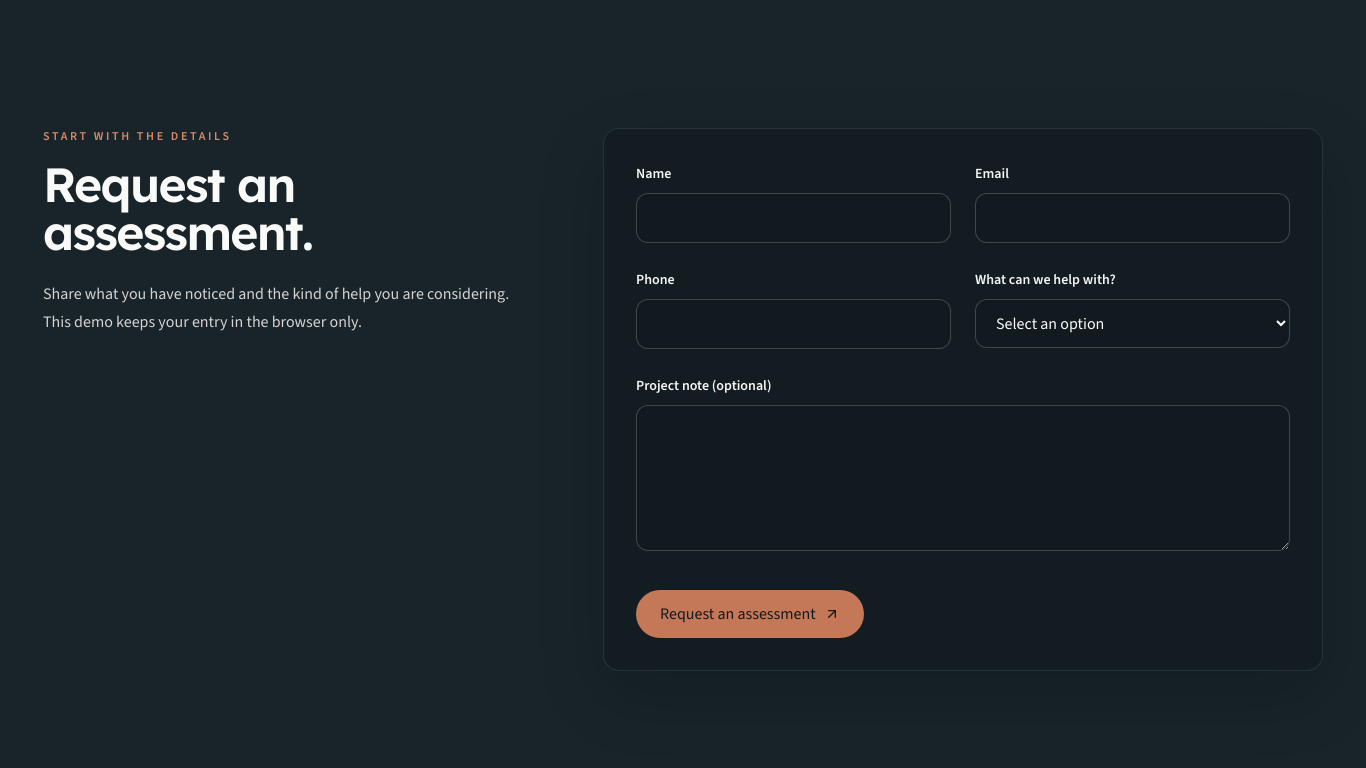
it: AssessmentForm › shows inline validation errors for an empty submission
The width and height of the screenshot is (1366, 768).
What coordinates should you click on to do the following:
click the button "Request an assessment"
I would click on:
 (750, 614)
Its box is [636,590,864,638].
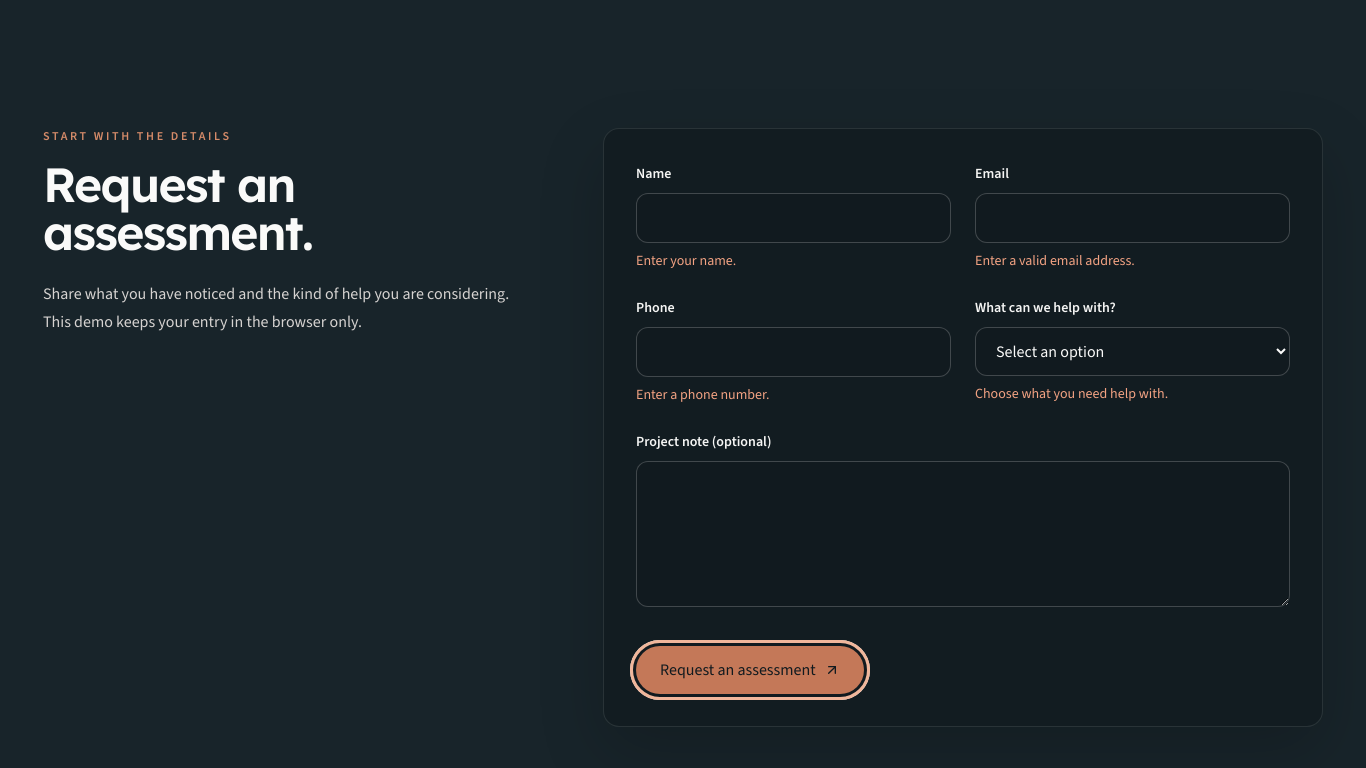
Now the text "Enter your name." is shown, box [636,251,736,270]
Now the text "Choose what you need help with." is shown, box [975,384,1168,403]
